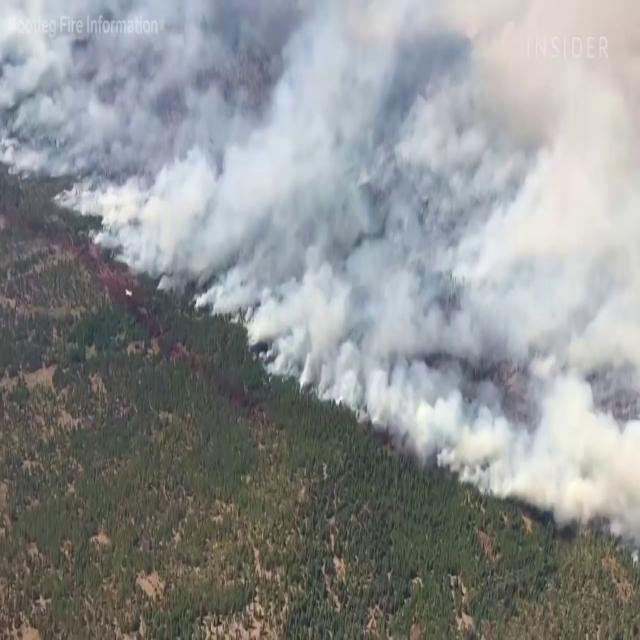Smoke: (28, 1, 640, 492)
